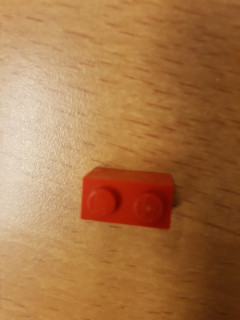1x2 red: (82, 166, 177, 230)
